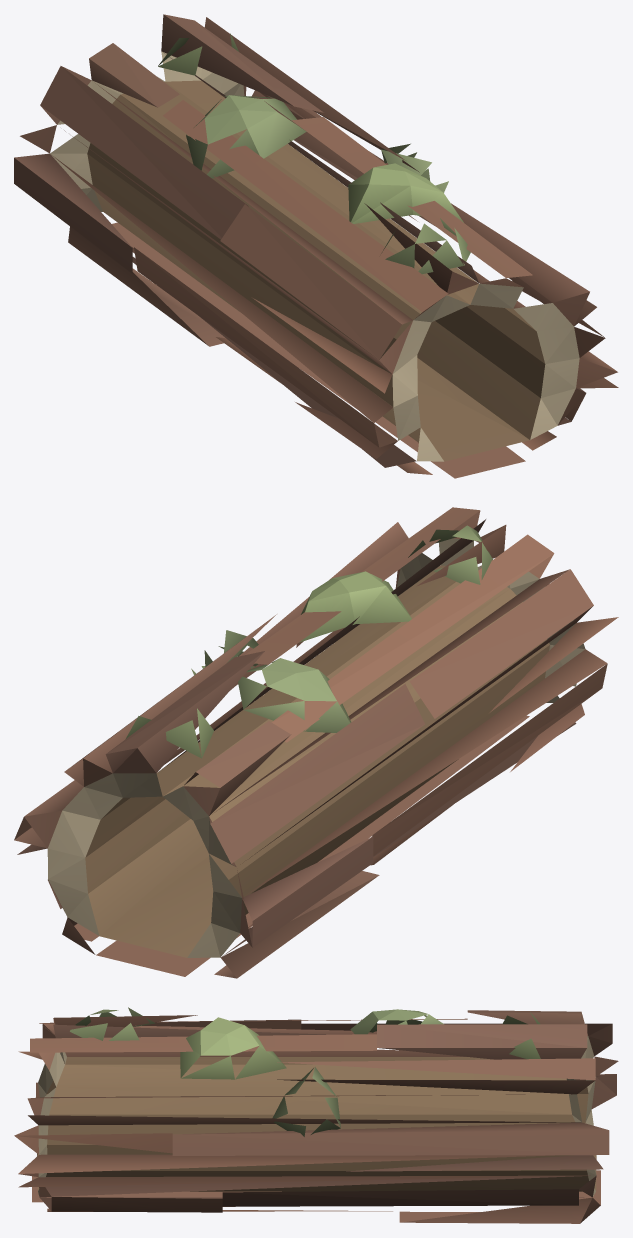
File: hollow.lod.glb
3 views of the same model, one above another, from view 1: azimuth 30°, elevation 25°; view 2: azimuth 150°, elevation 25°; view 3: azimuth 270°, elevation 25° (orthographic). The views are drawn at different scales.
Parts seen in each view (by area): view 1: hollow; view 2: hollow; view 3: hollow.
Part boxes in pixels (x1=…): hollow: x1=14, y1=14, x2=618, y2=478; hollow: x1=14, y1=507, x2=618, y2=978; hollow: x1=14, y1=1007, x2=618, y2=1223.
Size of the model in its own units: 2.4 by 2.03 by 6.4.
